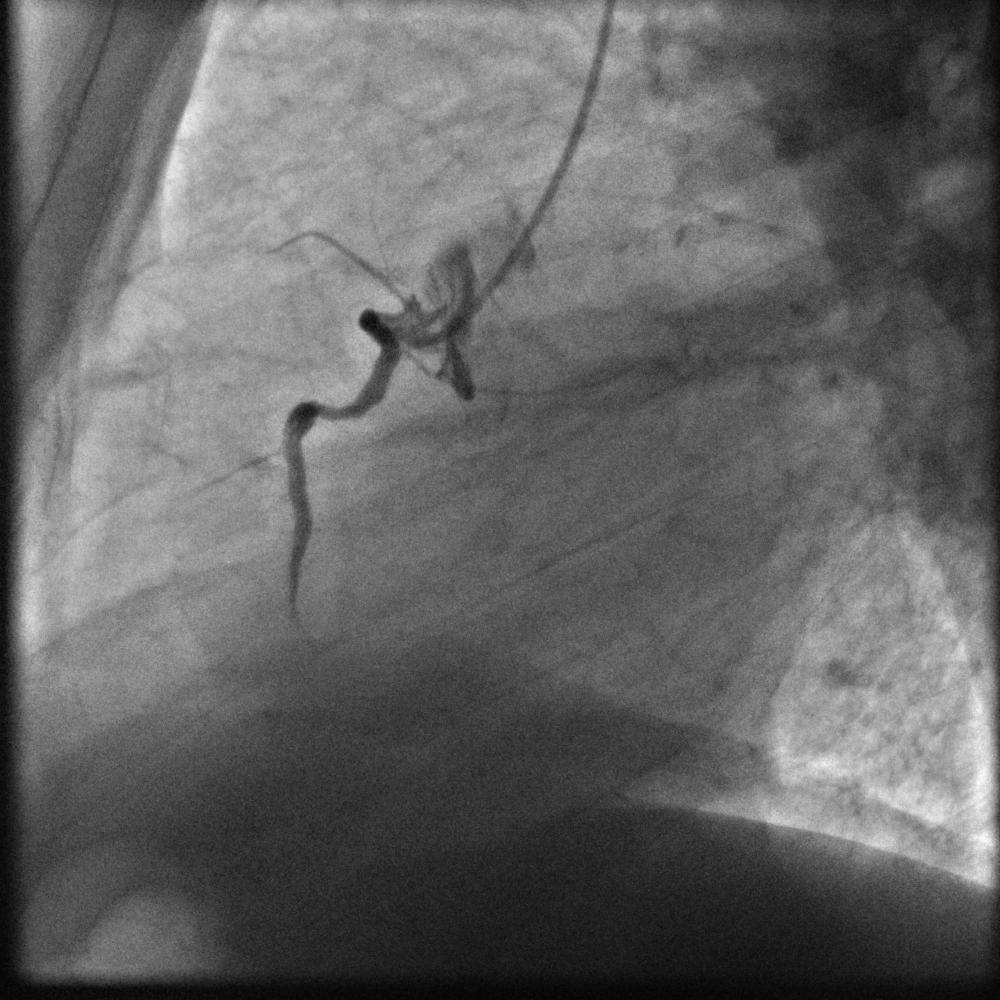Stenosis: (308, 399, 349, 422)
